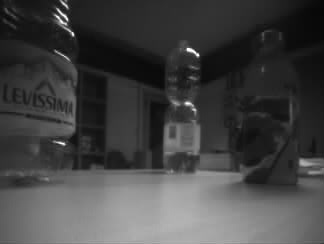Bottle: (1, 1, 78, 190), (238, 29, 302, 186), (161, 39, 202, 175)
